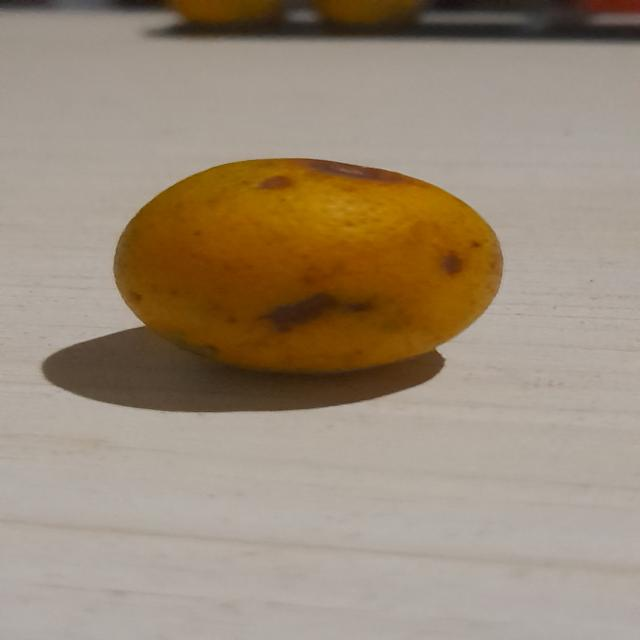black spot: (108, 154, 509, 378)
